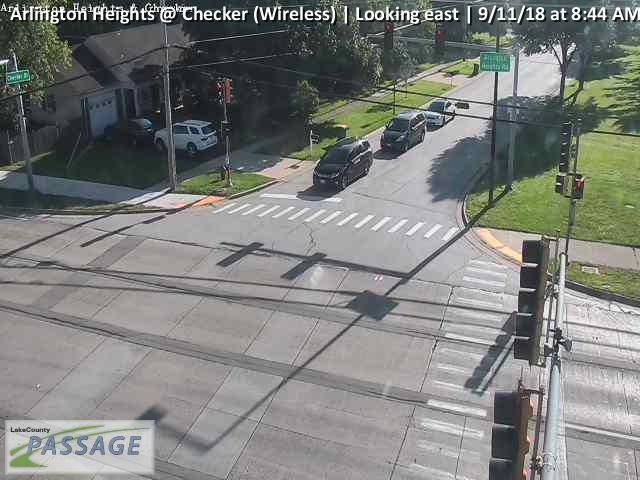SUV: (311, 137, 374, 194), (153, 120, 219, 155), (380, 112, 428, 153)
Sedan: (102, 117, 153, 146), (426, 100, 457, 127)
